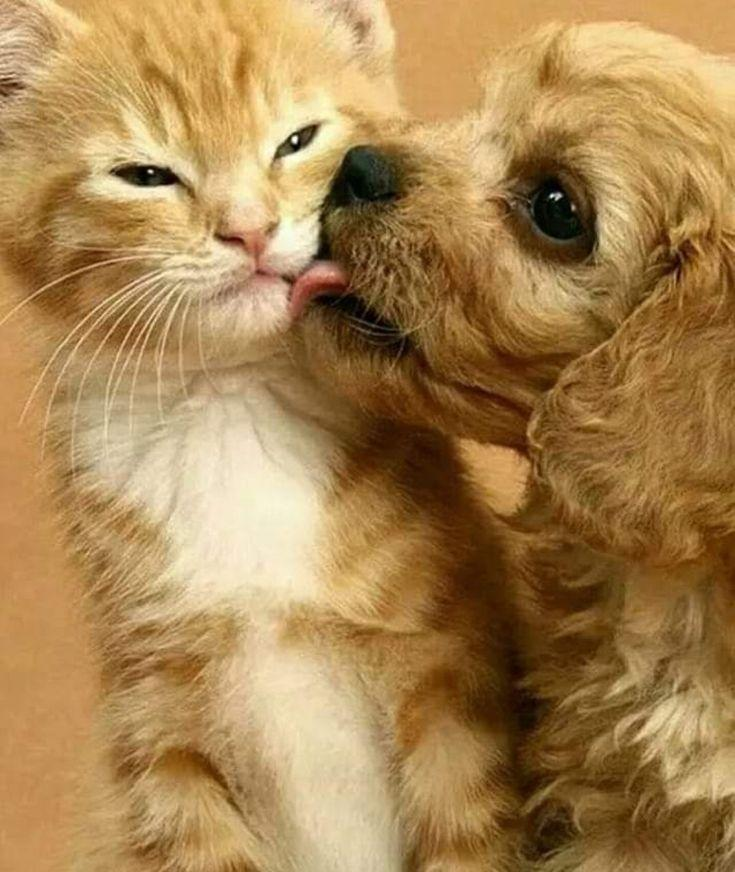kedo: (0, 0, 418, 363)
